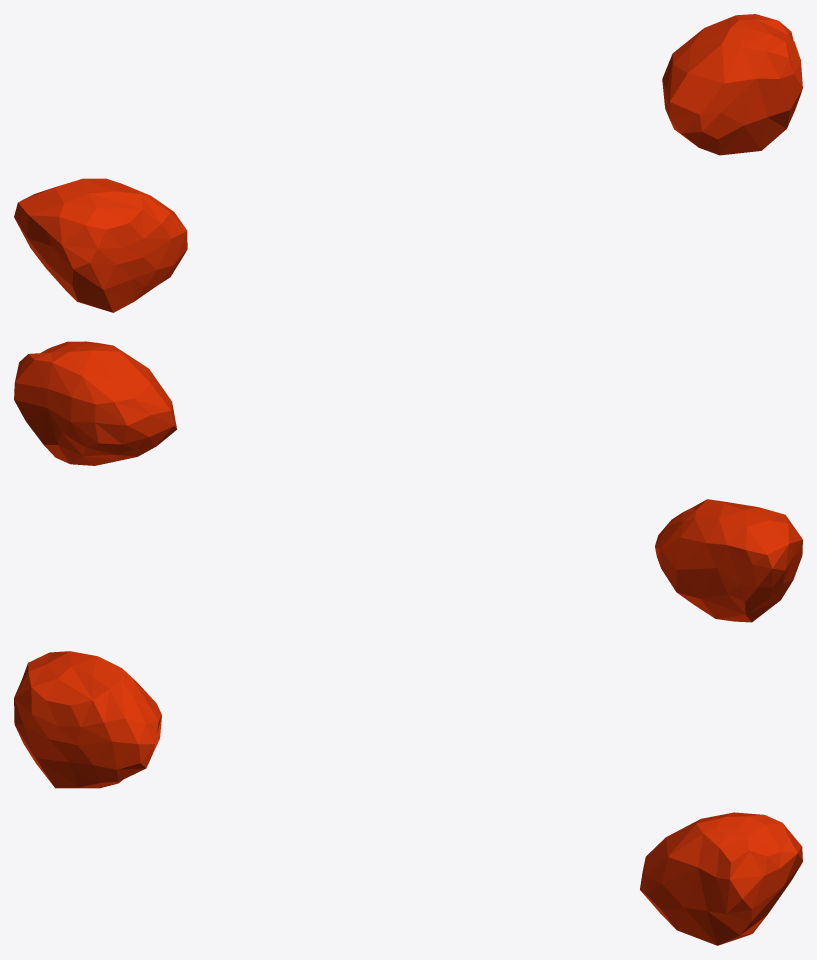
Rendered from 206-EC-entorhinal cortex, caudal part-('1.0000', '0.2275', '0.0000').obj.
3 renders of one model, top to bottom at view 1: azimuth 30°, elevation 25°; view 2: azimuth 150°, elevation 25°; view 3: azimuth 330°, elevation 25°, orthographic.
Bounding box in the file's own units: 137 × 19.81 × 17.21.
